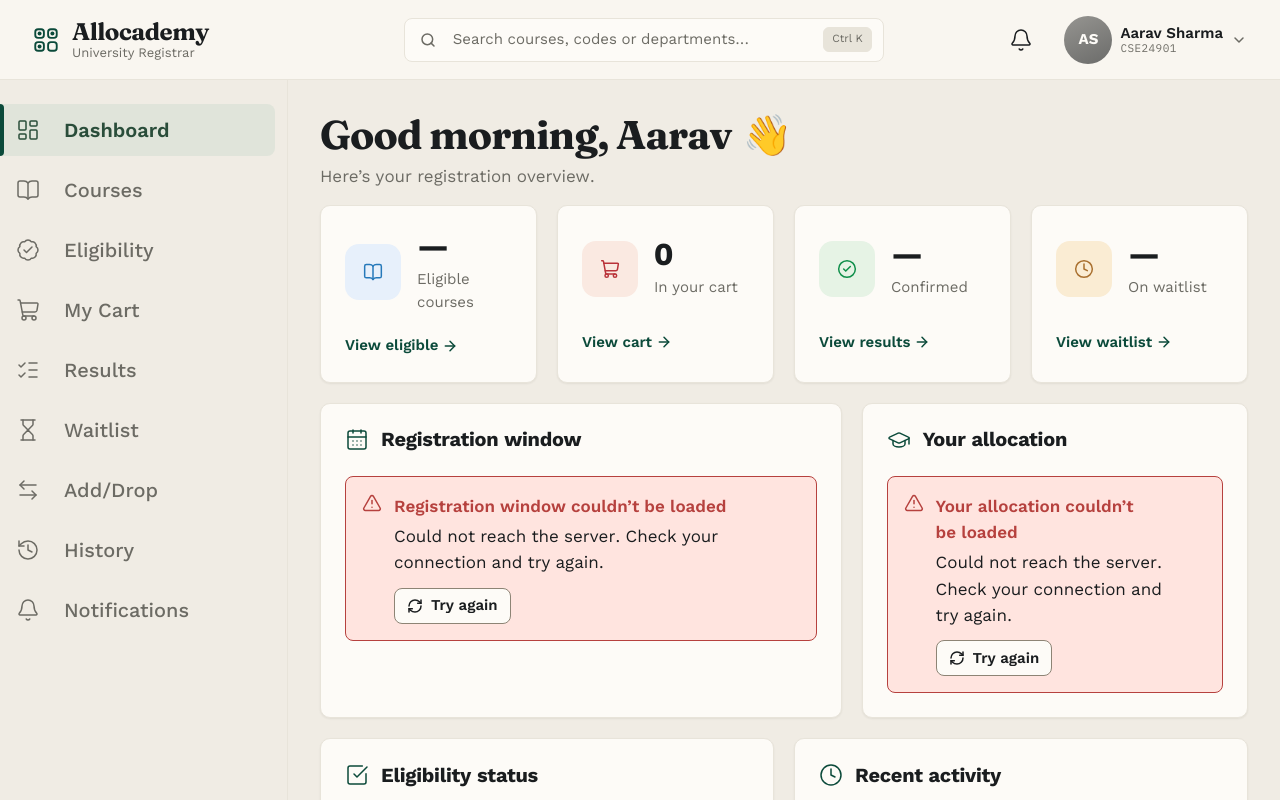
it: leaving a session › signing out returns to /login with a notice
Expected: the heading "Good morning, Aarav 👋" is shown, 320,110 -> 792,159
Expected: the text "CSE24901" is shown, 1120,41 -> 1177,55
// Sign out lives in the account menu in the header.
Click the button named "account": (1158, 40) 1059,10 -> 1256,68
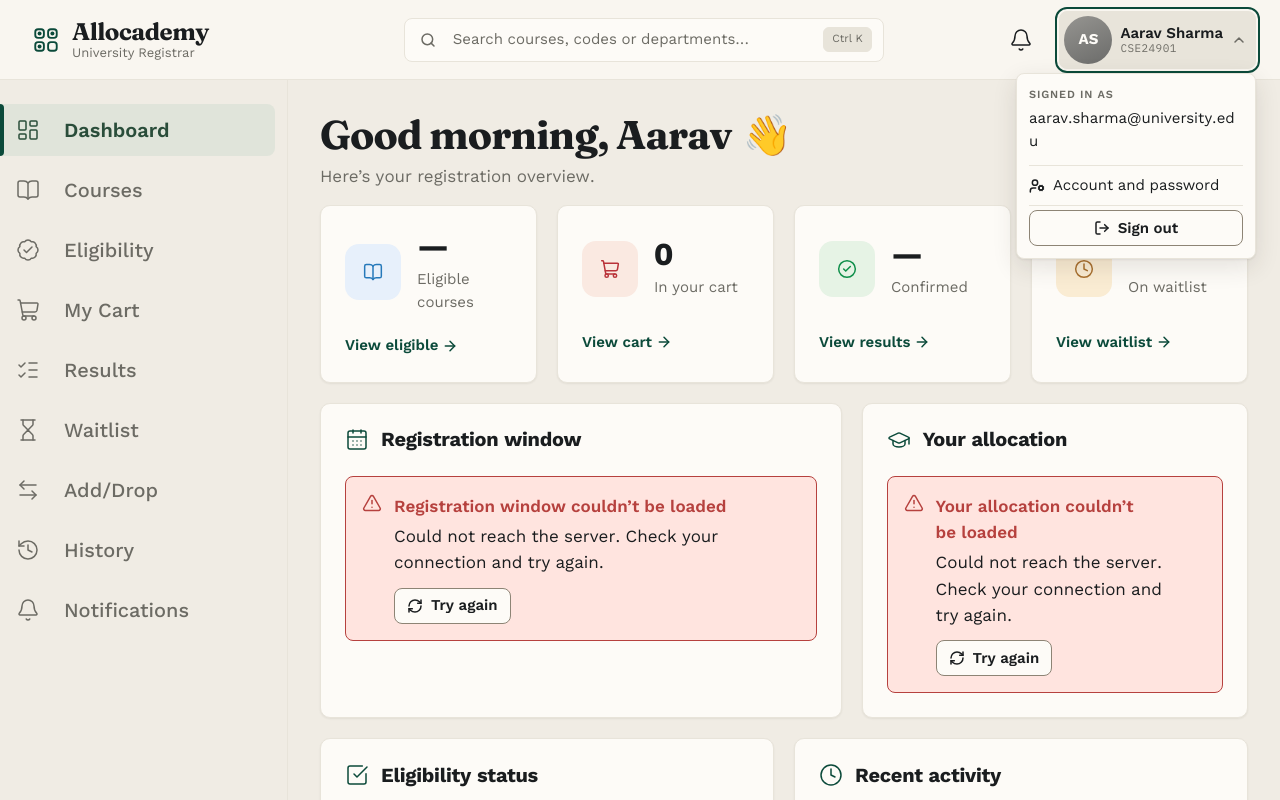
Click the button "Sign out": (1136, 228) 1029,210 -> 1243,246
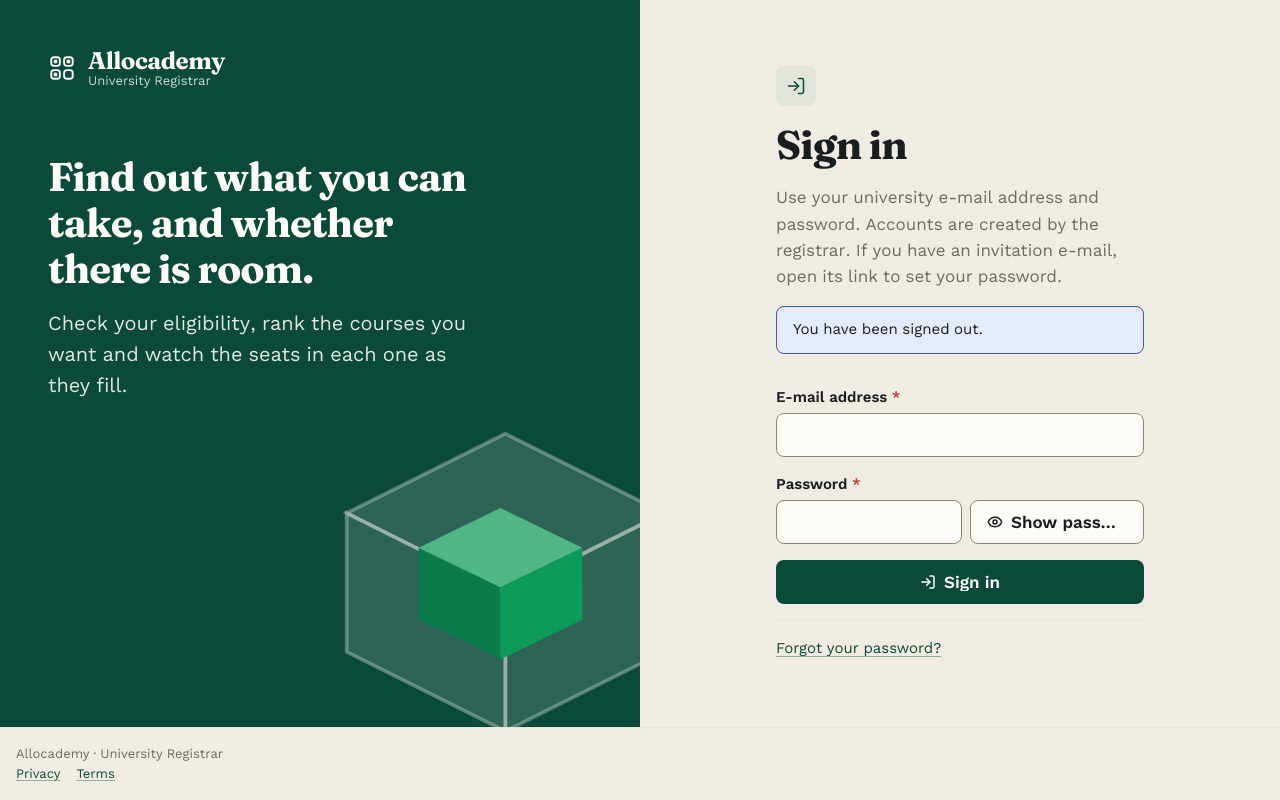
Now the message reads "You have been signed out.", box 793,320 -> 983,338
